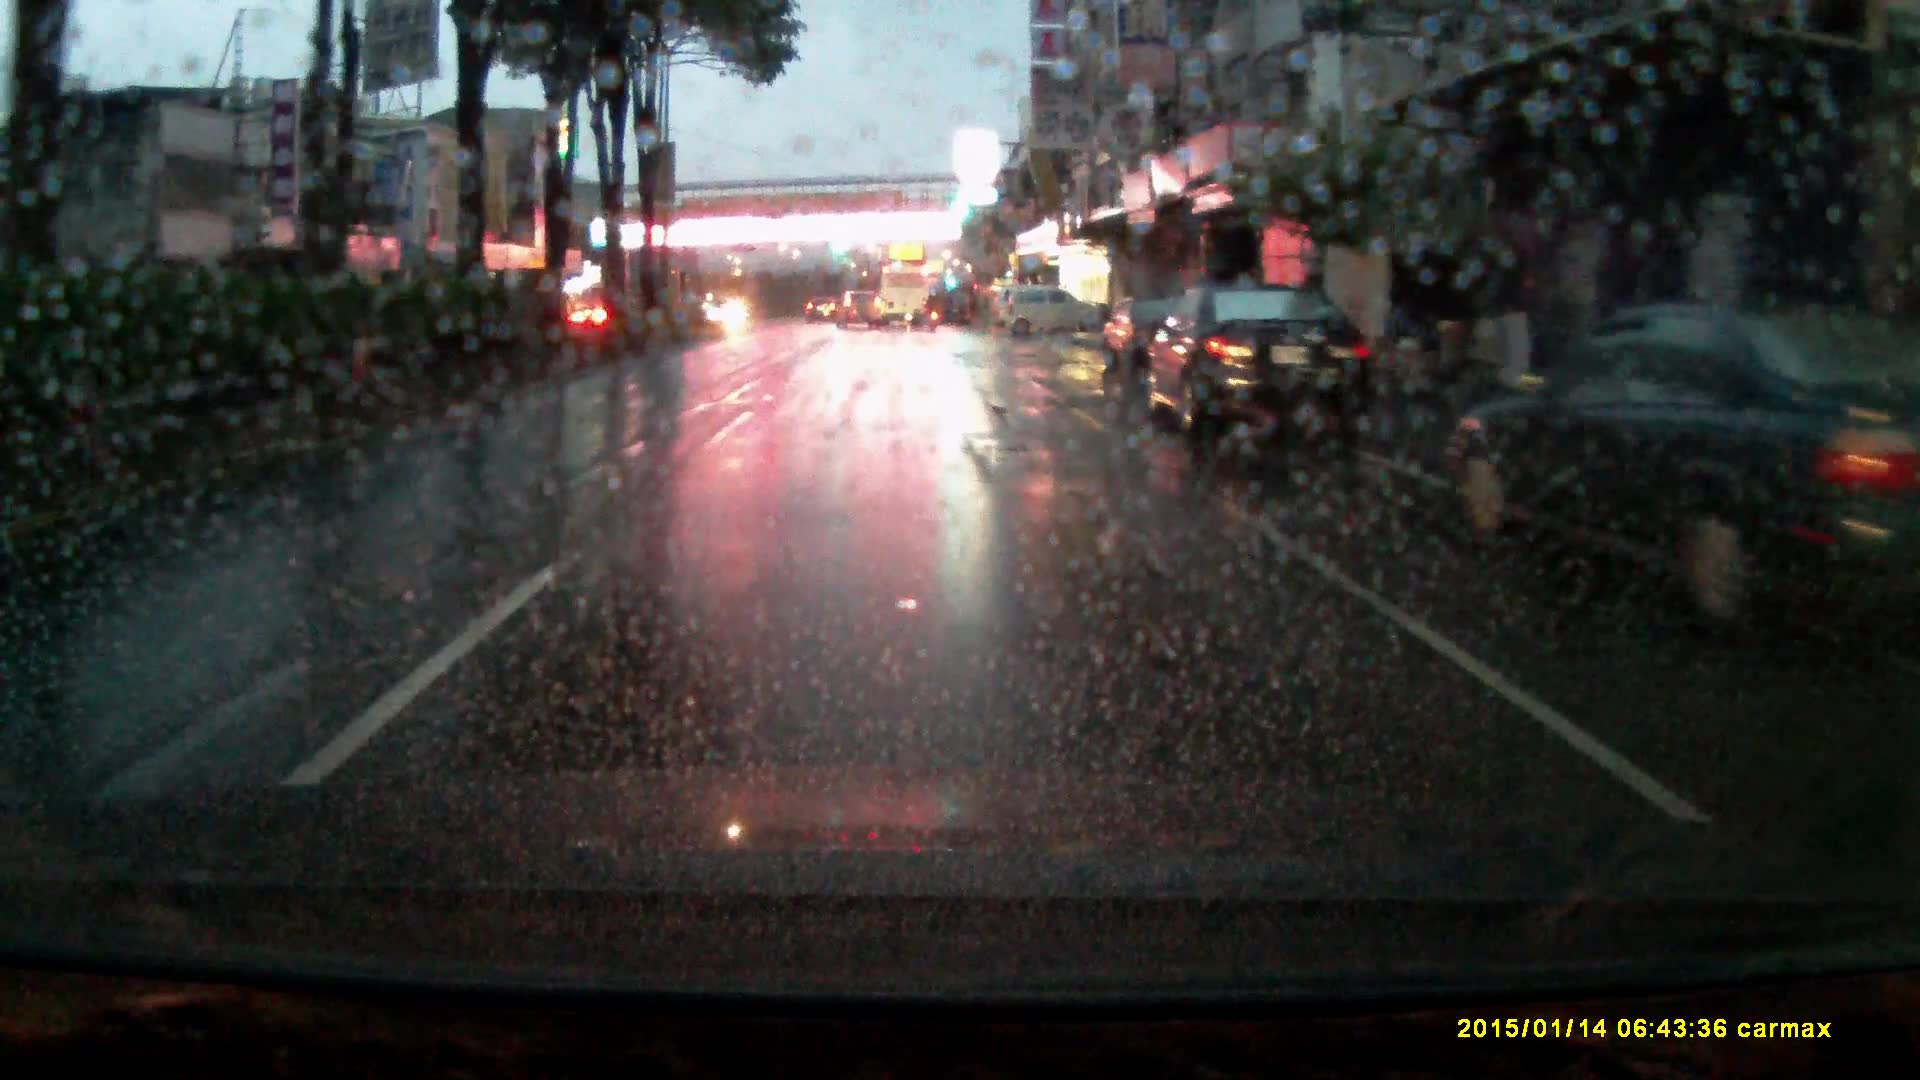vehicle: (1443, 305, 1905, 649), (1145, 284, 1367, 454), (1098, 298, 1193, 380), (1001, 287, 1098, 347), (865, 268, 931, 334), (835, 293, 884, 335), (804, 297, 839, 327)
